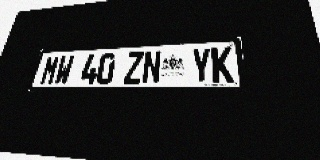0: (95, 53, 116, 84)
4: (79, 54, 101, 85)
K: (211, 47, 234, 83)
M: (39, 56, 61, 85)
N: (141, 50, 162, 84)
W: (53, 55, 75, 85)
Y: (191, 48, 212, 83)
Z: (123, 51, 144, 84)
